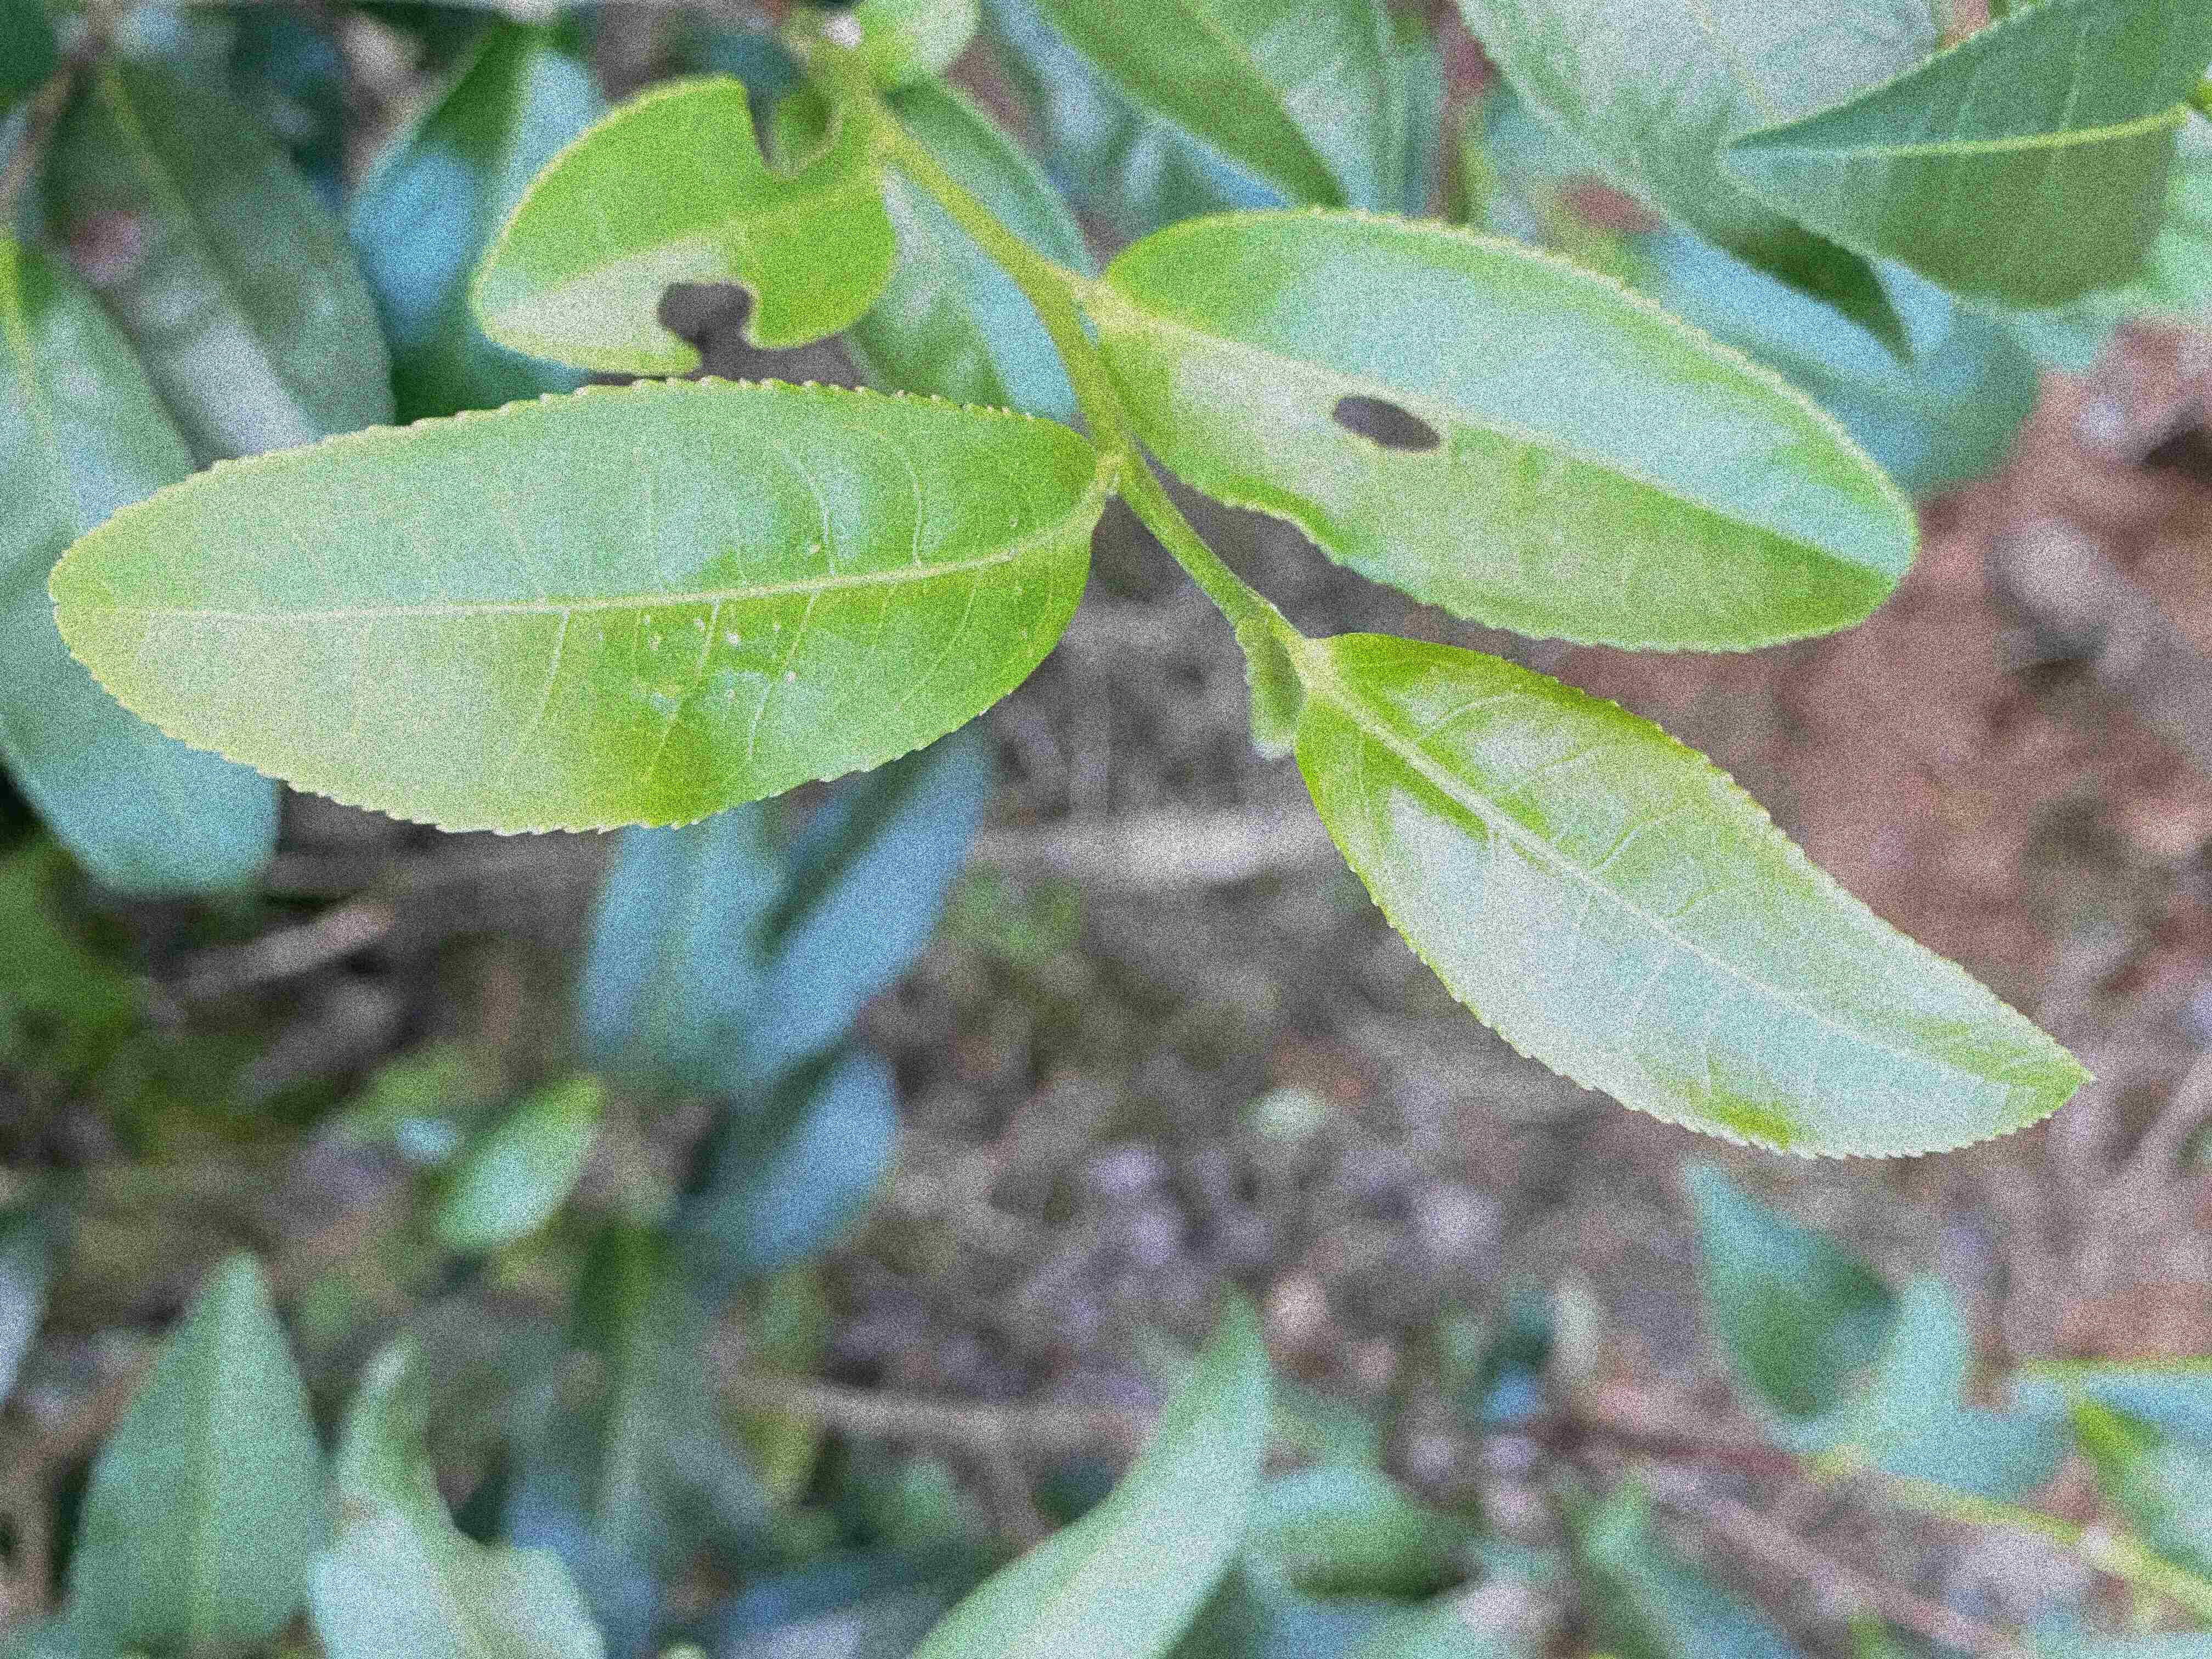chihuo_high: (470, 75, 899, 375)
chihuo_low: (1097, 213, 1919, 655)
healthy: (44, 371, 1096, 838), (1287, 626, 2097, 1157)
